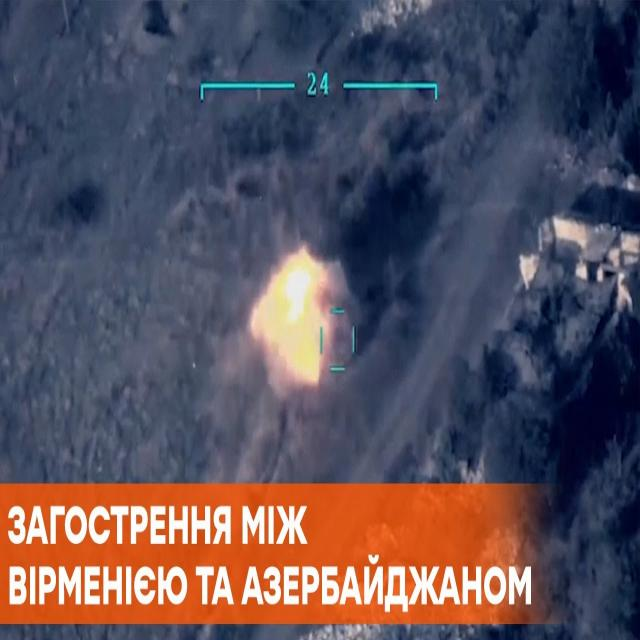destroyed: (256, 250, 356, 396)
